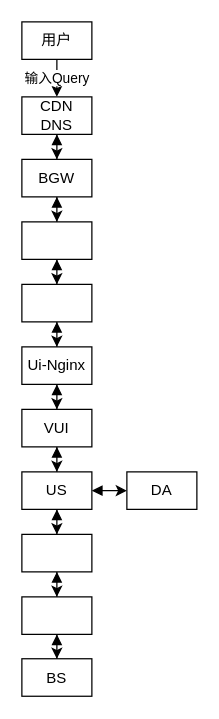
Image size: 219x719. Some labels were removed from this diagram. The shapes that lost their labels are listed below. From the top down, each one's centre as x and y in pixels, then its label:
point (56, 240): BFE
point (56, 302): Pr-Nginx
point (56, 552): AC
point (56, 615): BC
